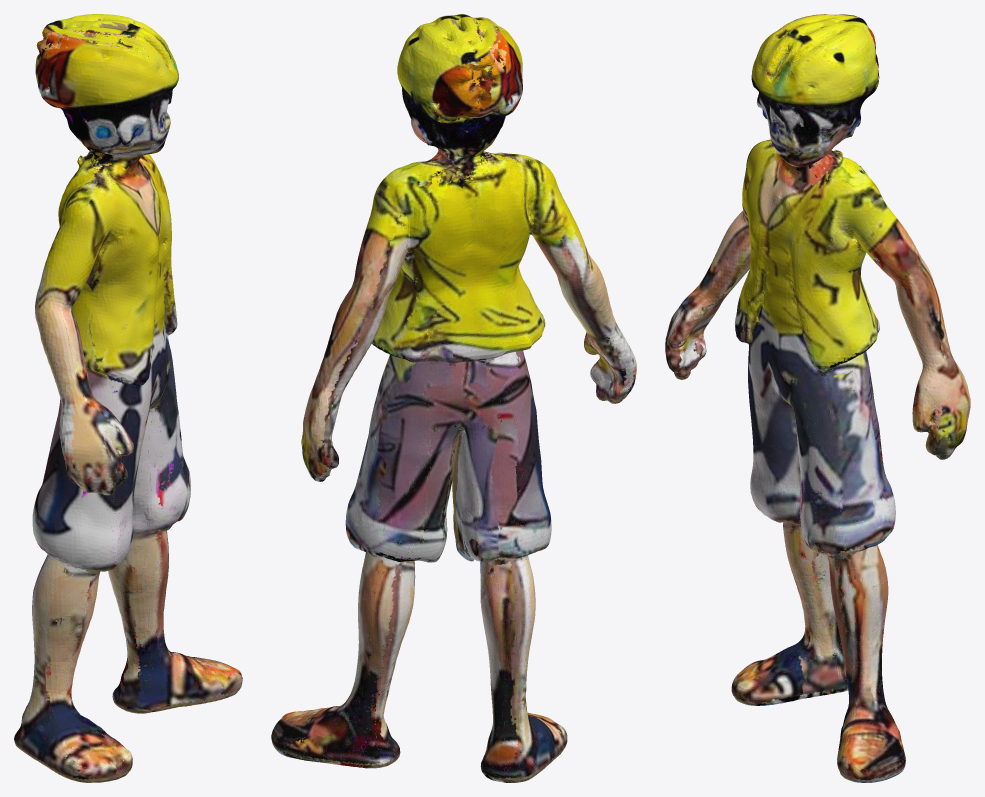
Rendered from luffy_helmet_m0.glb.
3 renders of one model, left to right at view 1: azimuth 30°, elevation 25°; view 2: azimuth 150°, elevation 25°; view 3: azimuth 270°, elevation 25°, orthographic. The views are drawn at different scales.
Visible parts, largest first — view 1: mesh; view 2: mesh; view 3: mesh.
Boxes of the visible parts, box(x1,y1,x2,y2) form: mesh: box(14, 14, 242, 782); mesh: box(271, 14, 636, 782); mesh: box(665, 14, 970, 782).
Bounding box in the file's own units: 0.4157 × 1.09 × 0.4383.
1 material, 1 textured.
